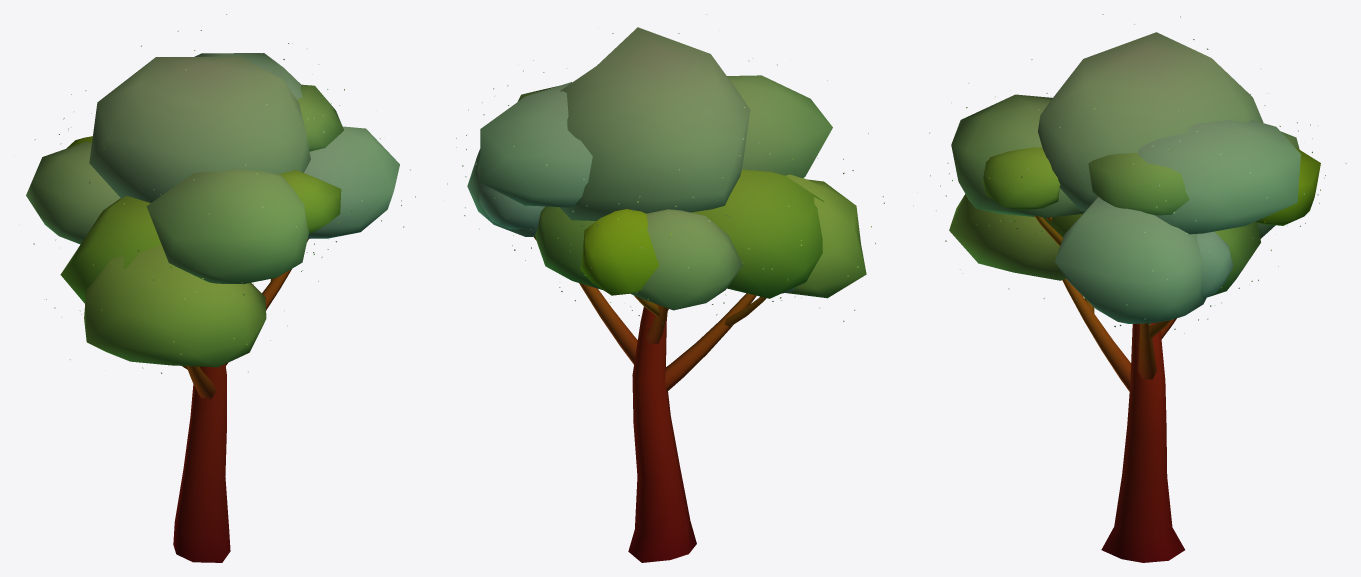
Rendered from card_round.glb.
The picture shows the model from 3 angles, left to right: view 1: azimuth 30°, elevation 25°; view 2: azimuth 150°, elevation 25°; view 3: azimuth 270°, elevation 25°; orthographic projection. The views are drawn at different scales.
Parts seen in each view (by area): view 1: card_round_LOD0; view 2: card_round_LOD0; view 3: card_round_LOD0.
Boxes of the visible parts, x1,y1,x2,y2 form: card_round_LOD0: [26, 14, 415, 562]; card_round_LOD0: [447, 14, 884, 562]; card_round_LOD0: [913, 14, 1346, 562].
Size of what is drawn, in the model's own units: 6.12 by 7.88 by 5.95.
